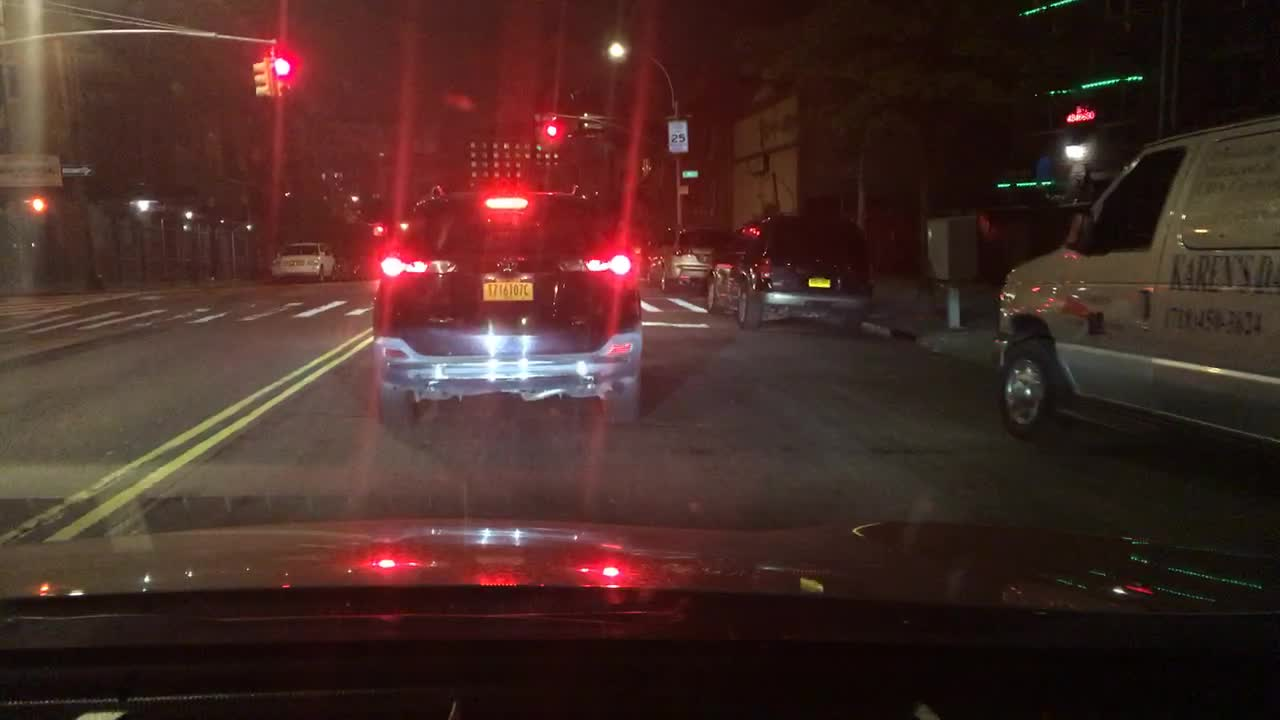car: (989, 101, 1277, 477), (363, 178, 648, 429), (700, 205, 889, 339), (642, 224, 751, 296), (271, 238, 338, 282), (335, 254, 380, 281)
traffic light: (273, 49, 293, 98), (250, 61, 270, 101), (26, 192, 53, 214), (543, 115, 558, 141)
traffic sign: (666, 120, 687, 152), (62, 161, 97, 178), (679, 167, 697, 178), (641, 159, 653, 175), (679, 186, 688, 198)
